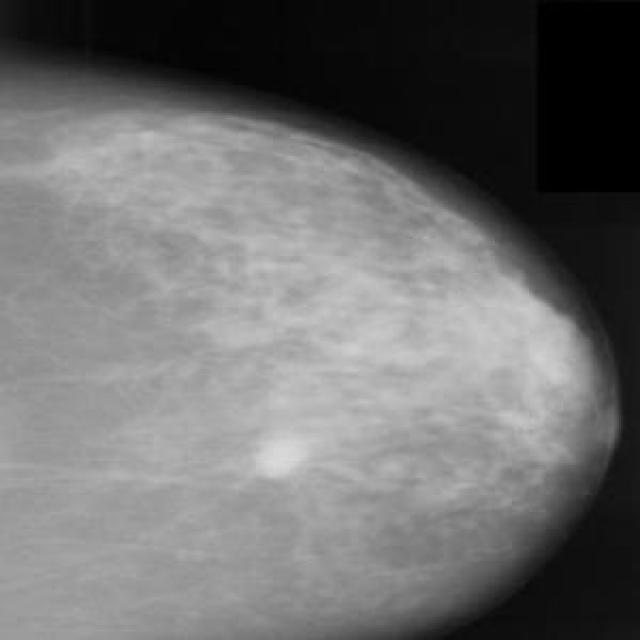tumor: (477, 269, 620, 495), (236, 401, 317, 491)
